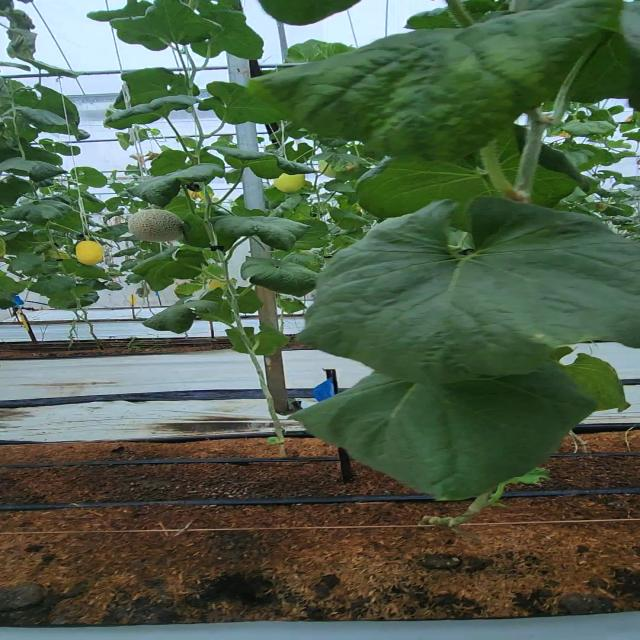Rear-melon: (127, 210, 188, 241), (76, 242, 106, 266), (274, 176, 302, 193)
